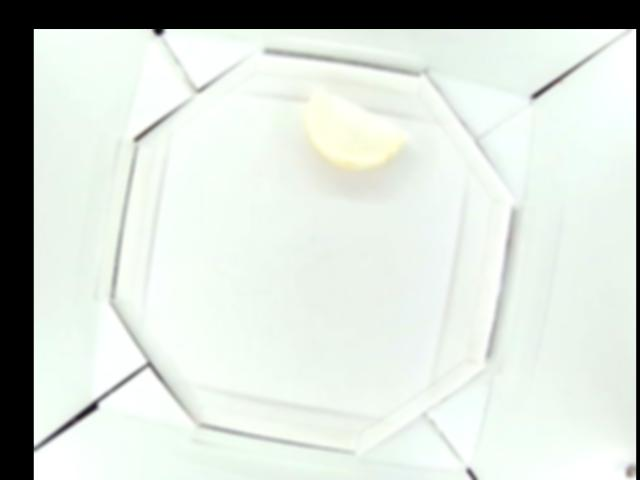Mooli: (303, 87, 410, 170)
